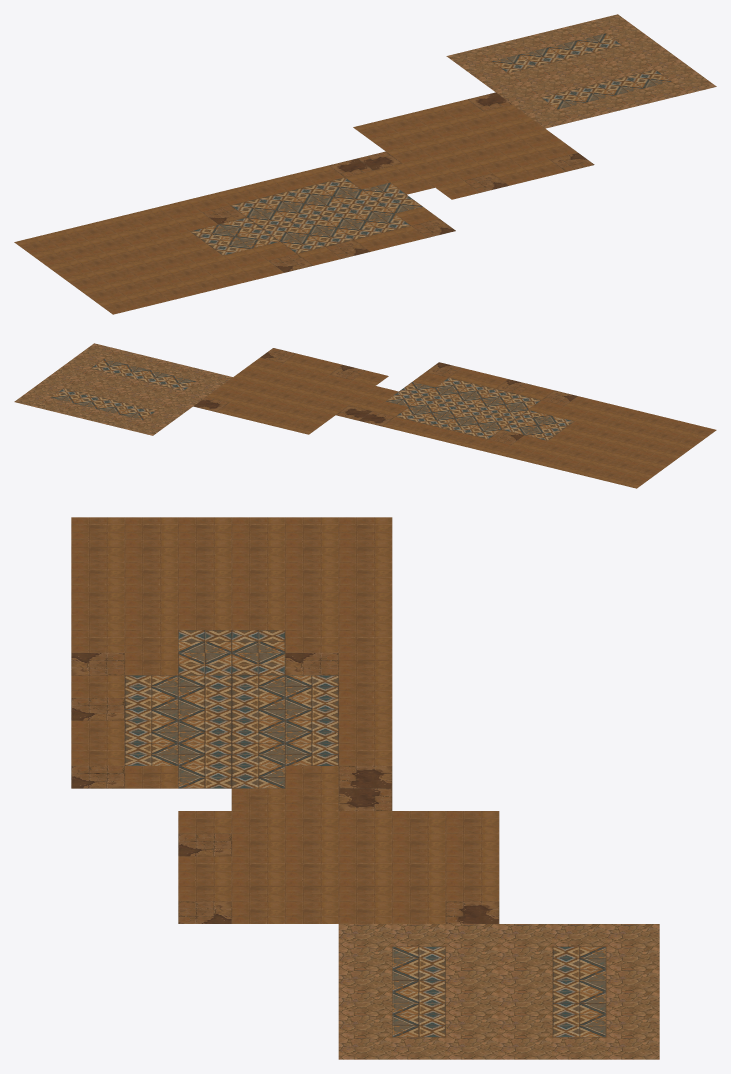
Rendered from Pyramid_1F_all.FBX.
The picture shows the model from 3 angles, top to bottom: view 1: azimuth 30°, elevation 25°; view 2: azimuth 150°, elevation 25°; view 3: azimuth 270°, elevation 25°; orthographic projection. The views are drawn at different scales.
Visible parts, largest first — view 1: Pyramid_1F02, Pyramid_1F04, Pyramid_1F01, Pyramid_1F03; view 2: Pyramid_1F02, Pyramid_1F04, Pyramid_1F03, Pyramid_1F01; view 3: Pyramid_1F02, Pyramid_1F04, Pyramid_1F01, Pyramid_1F03.
Boxes of the visible parts, x1,y1,x2,y2 form: Pyramid_1F02: (157, 151, 455, 279); Pyramid_1F04: (446, 14, 716, 128); Pyramid_1F01: (14, 207, 255, 314); Pyramid_1F03: (353, 92, 594, 199); Pyramid_1F02: (336, 362, 600, 460); Pyramid_1F04: (14, 343, 232, 435); Pyramid_1F03: (193, 348, 388, 434); Pyramid_1F01: (521, 401, 716, 488); Pyramid_1F02: (71, 630, 392, 810); Pyramid_1F04: (338, 924, 659, 1059); Pyramid_1F01: (71, 517, 392, 630); Pyramid_1F03: (178, 811, 499, 923).
Bounding box in the file's own units: 96 × 1.42e-14 × 44.
